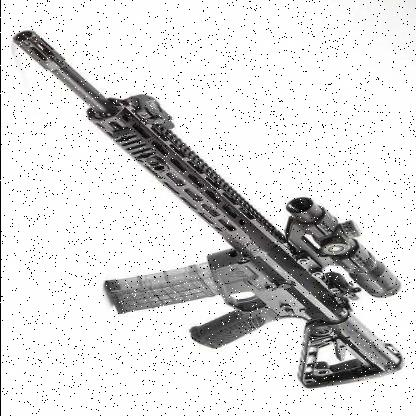rifle: (10, 29, 416, 396)
